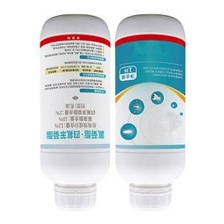insecticide: (37, 10, 114, 216), (112, 10, 189, 212)
